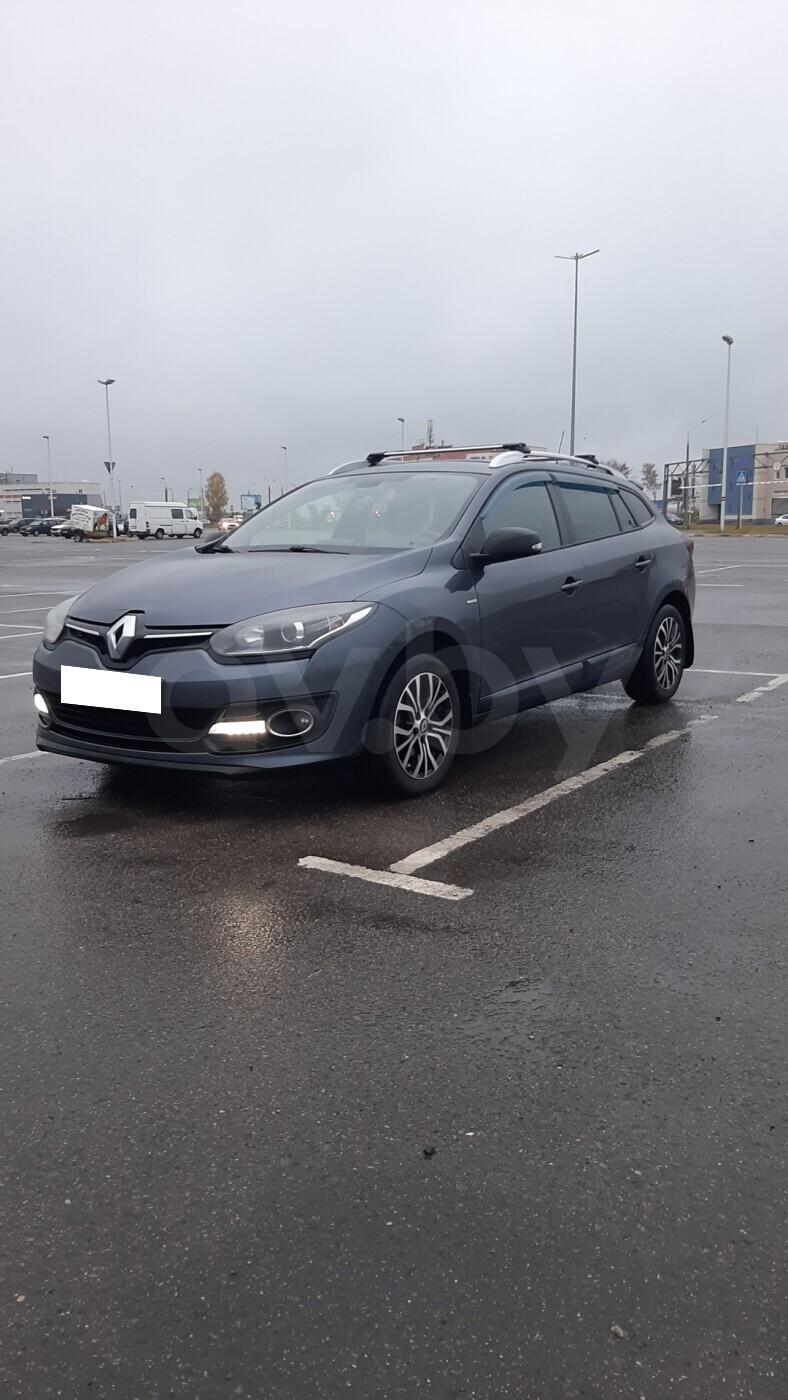Megane_2014-2016: (32, 446, 700, 812)
